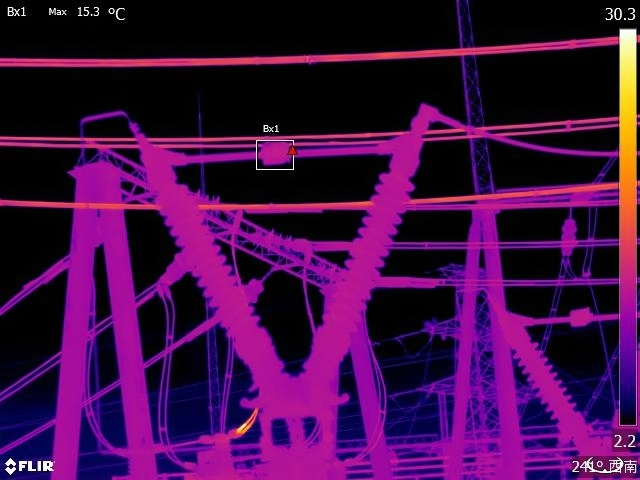clamp: (144, 272, 177, 303)
insulator: (558, 214, 581, 260)
post insulator: (149, 176, 284, 379), (307, 152, 425, 379), (516, 337, 585, 440), (184, 273, 270, 341), (157, 237, 229, 291)
switch: (133, 100, 435, 181), (498, 298, 640, 336)
